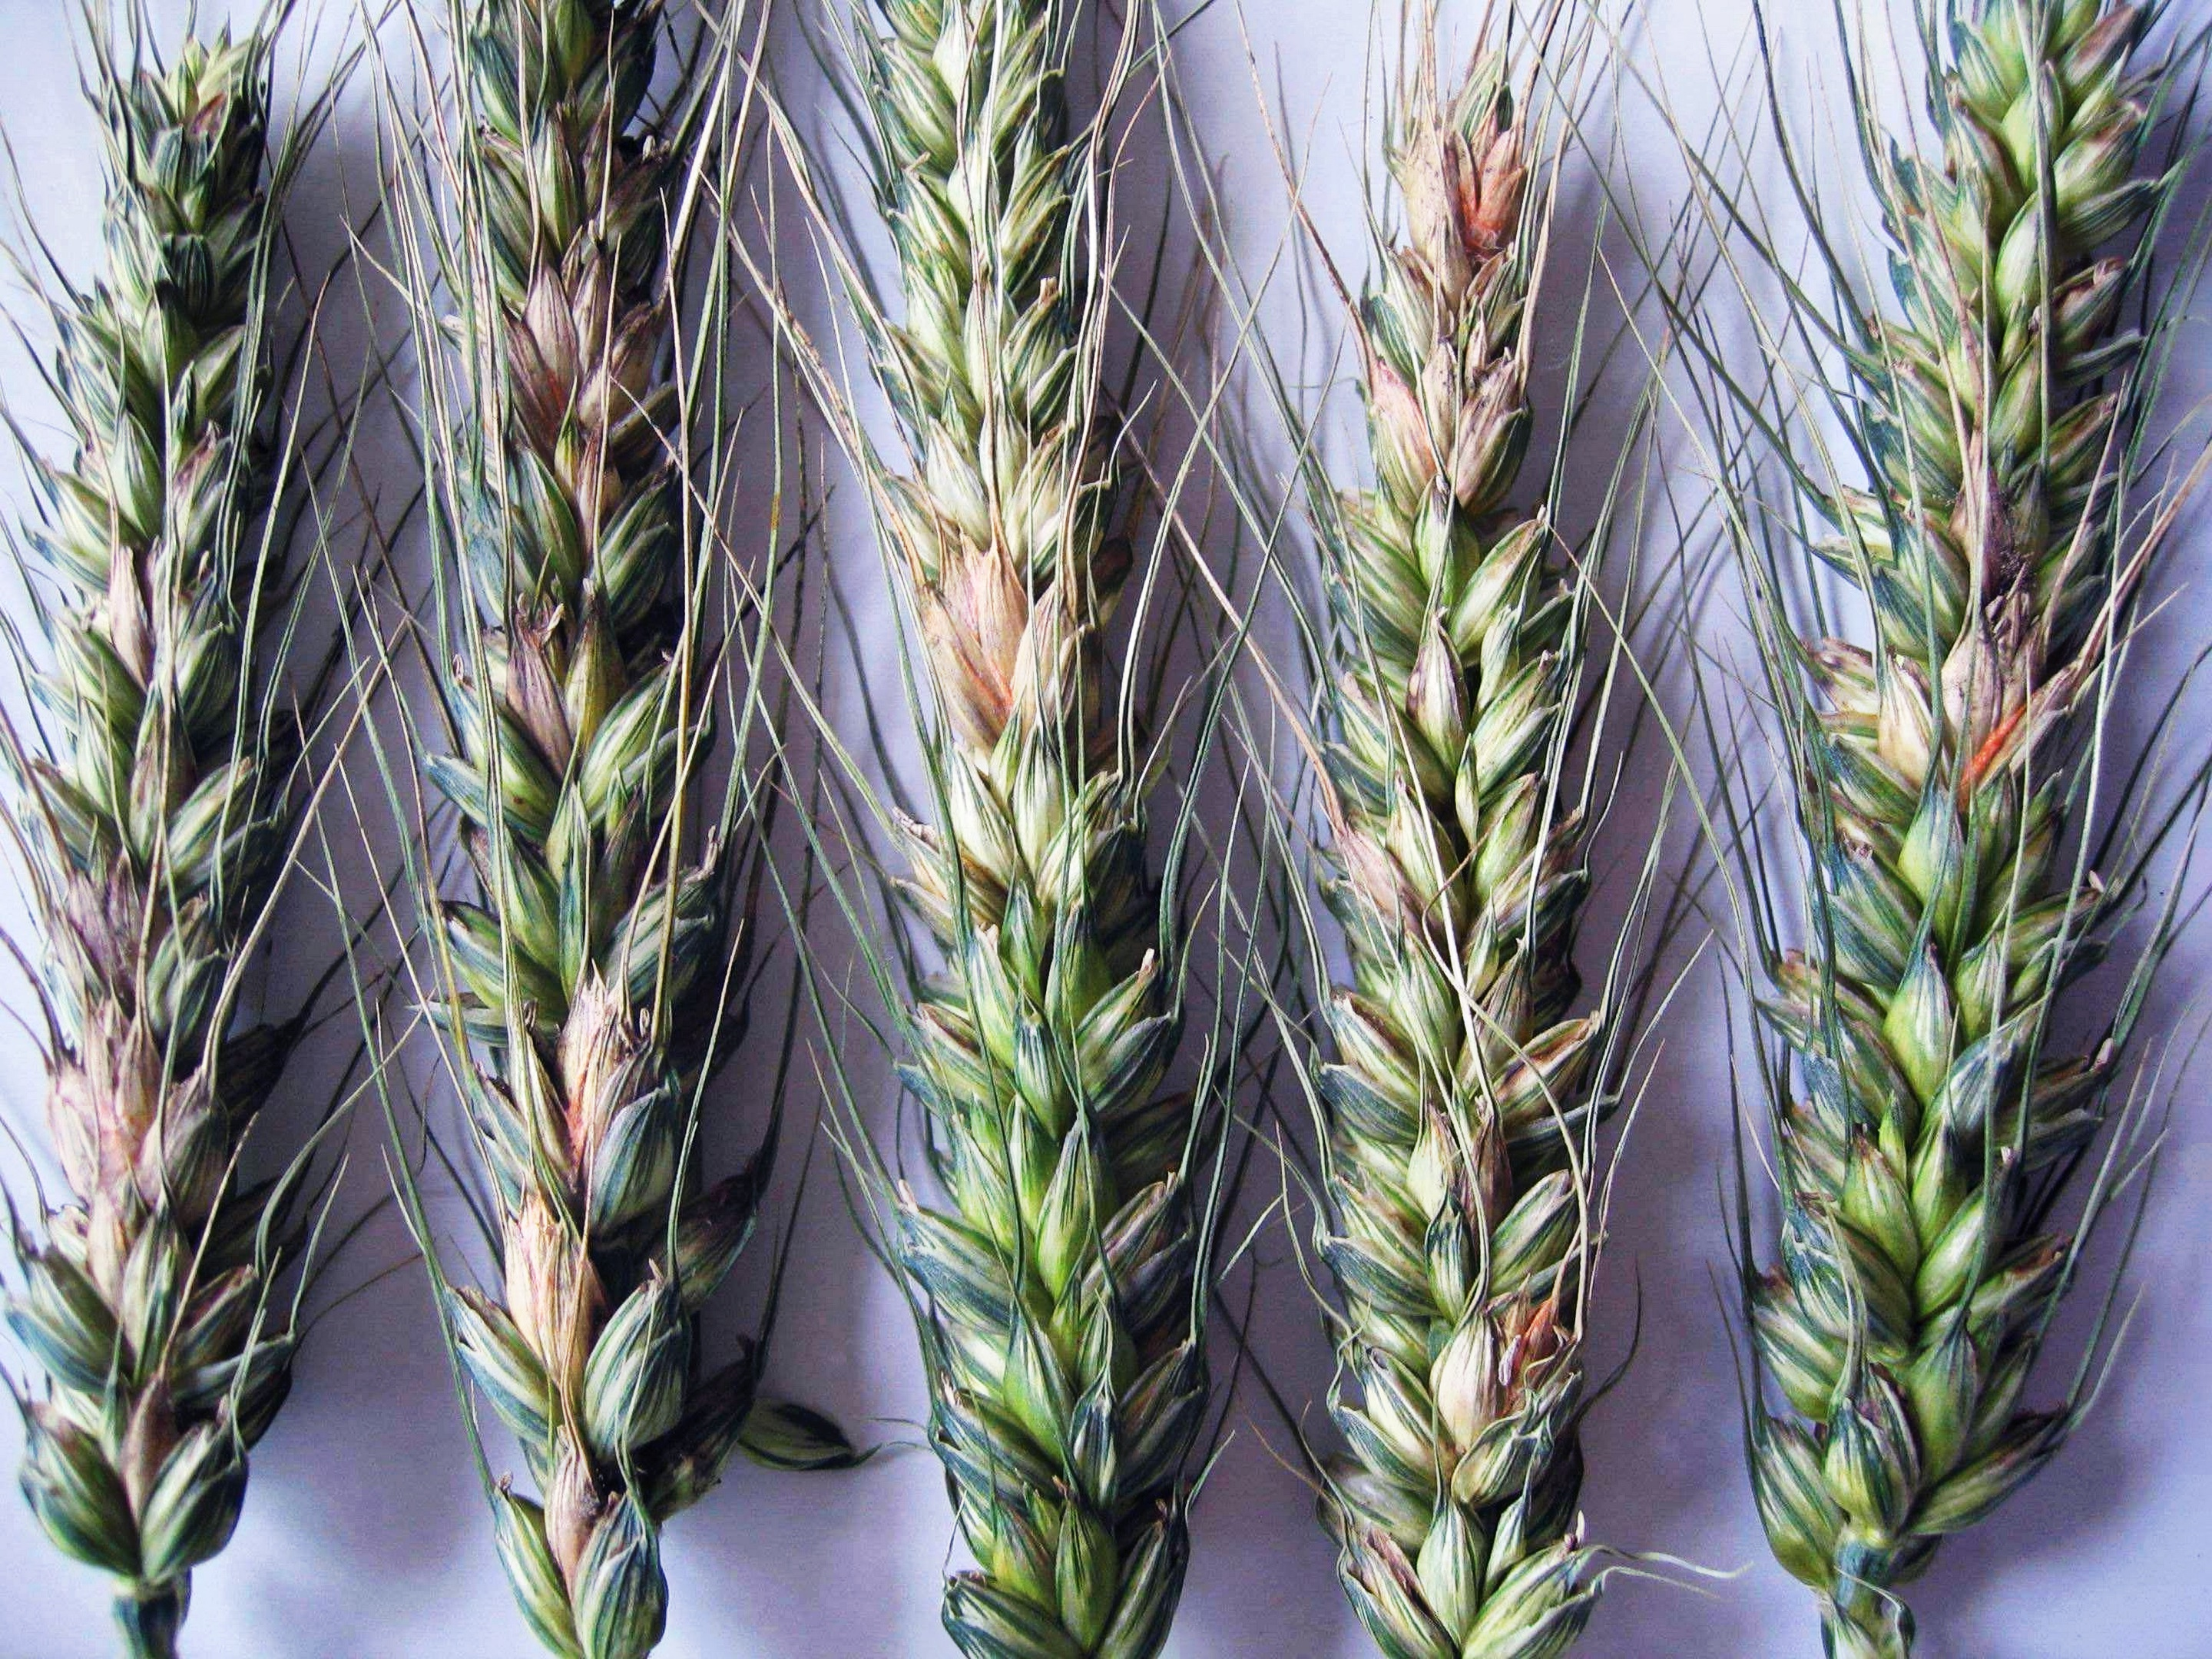Wheat scab: (831, 45, 1224, 1626), (394, 23, 775, 1600), (0, 42, 336, 1582), (1298, 56, 1601, 1659)
